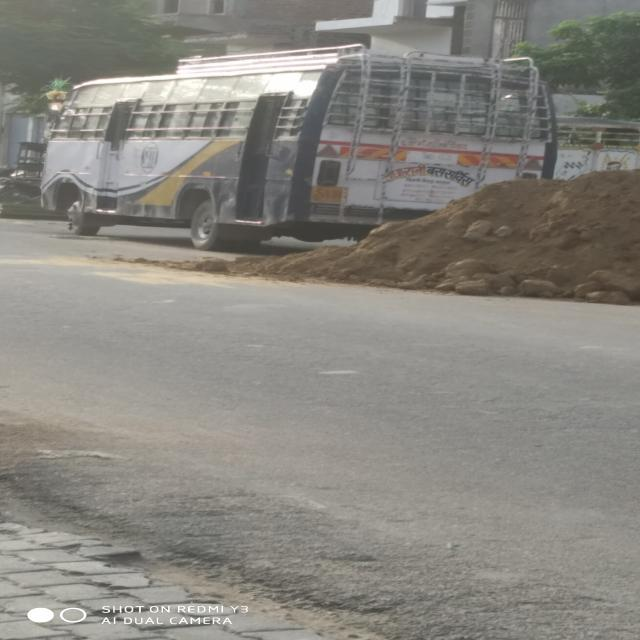Bus: (32, 52, 380, 239)
